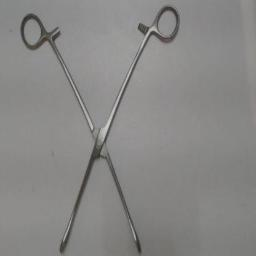Sponge Forceps: (15, 2, 183, 254)
